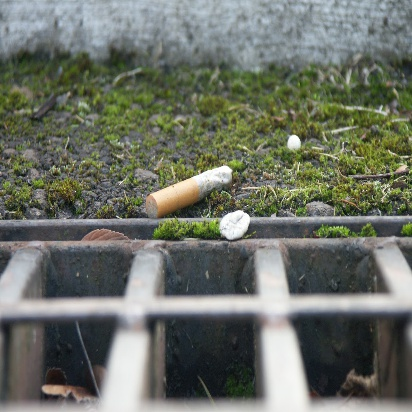cigarette: (141, 154, 233, 220)
